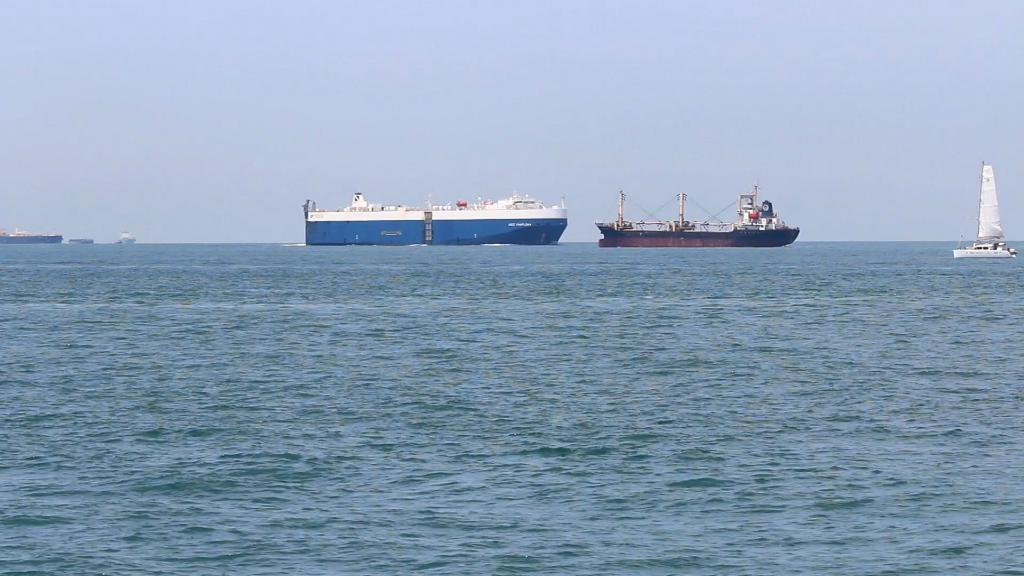PassengerShip: (948, 236, 1020, 262)
